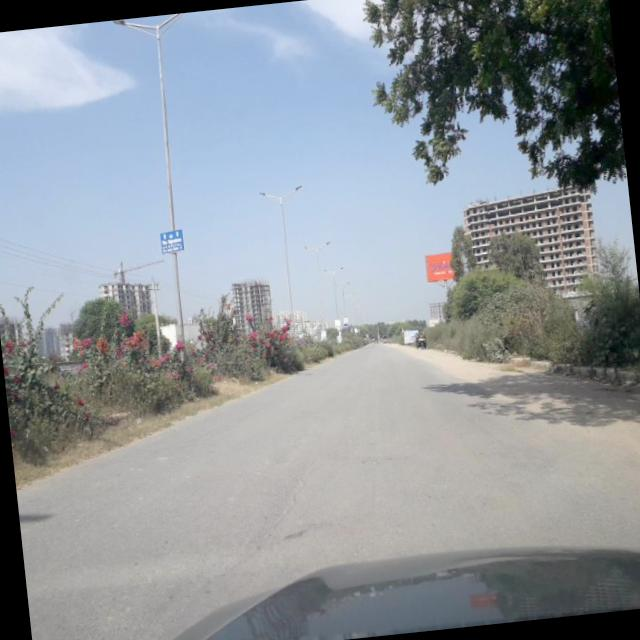crack: (260, 466, 314, 534)
